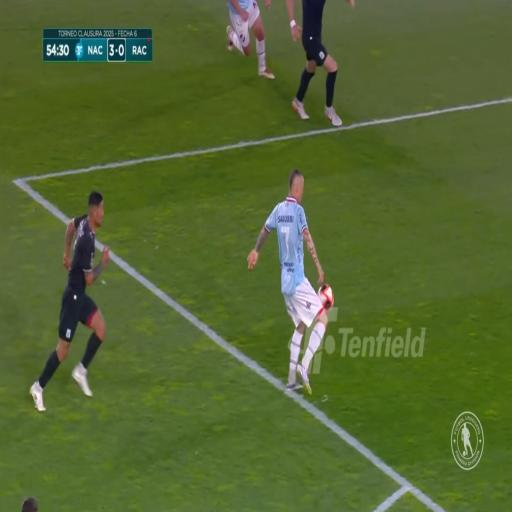Ball: (316, 281, 333, 311)
Player: (38, 190, 108, 412), (257, 164, 323, 389), (291, 0, 337, 128)
